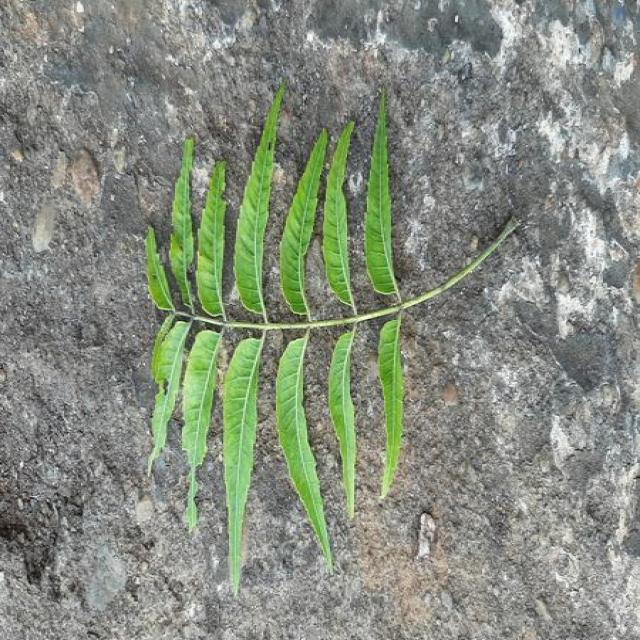neem: (145, 139, 230, 528), (233, 86, 282, 324), (278, 130, 330, 322), (277, 331, 322, 521), (223, 329, 266, 511), (363, 95, 400, 298), (322, 122, 358, 314), (328, 325, 357, 516), (378, 315, 403, 496)
